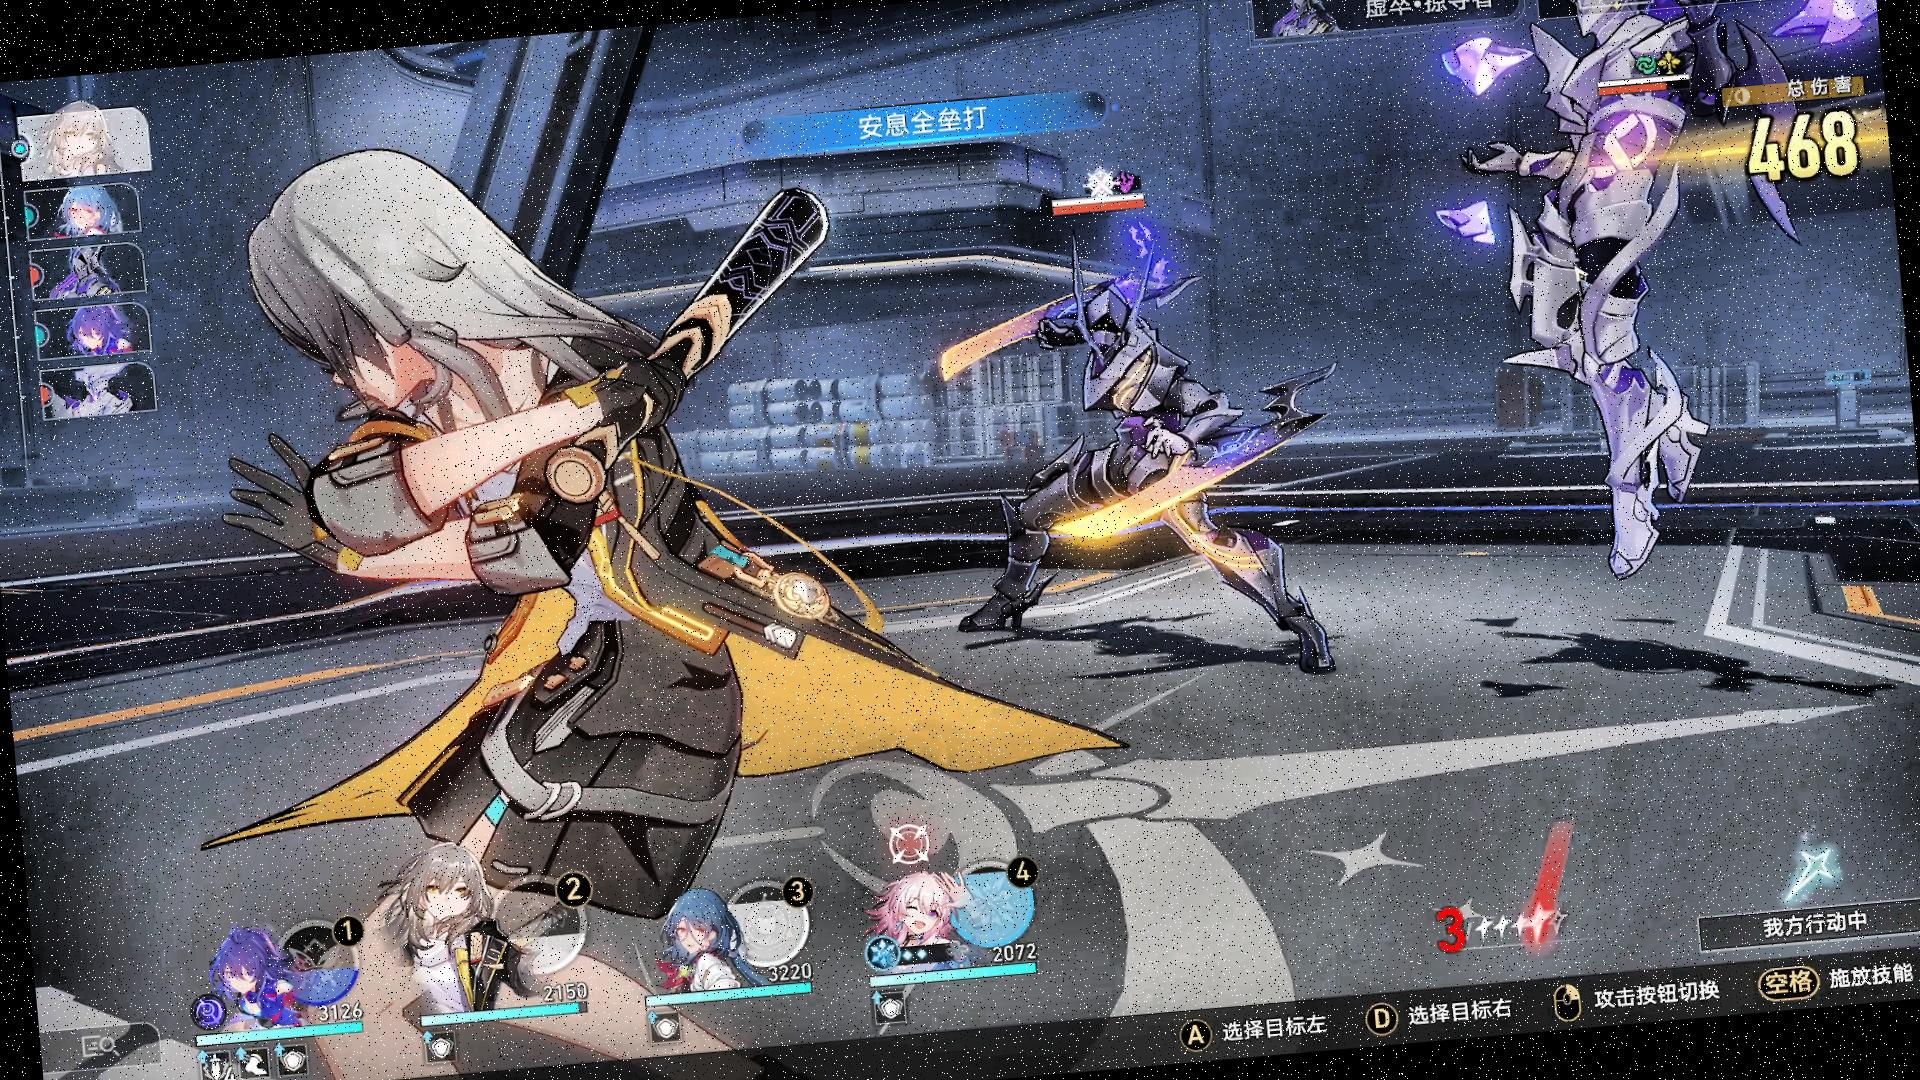Enemy: (1452, 0, 1797, 618), (935, 220, 1342, 711)
Self: (204, 94, 894, 1080)
